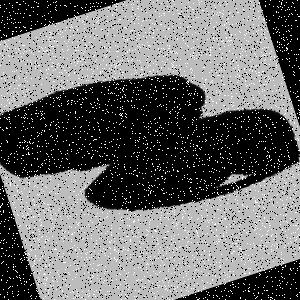knife: (0, 56, 210, 194), (88, 104, 300, 220)
